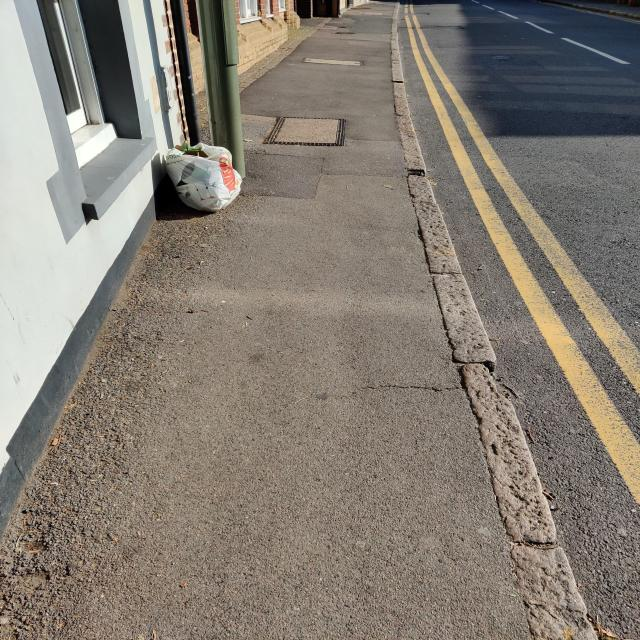litter: (158, 138, 250, 216)
